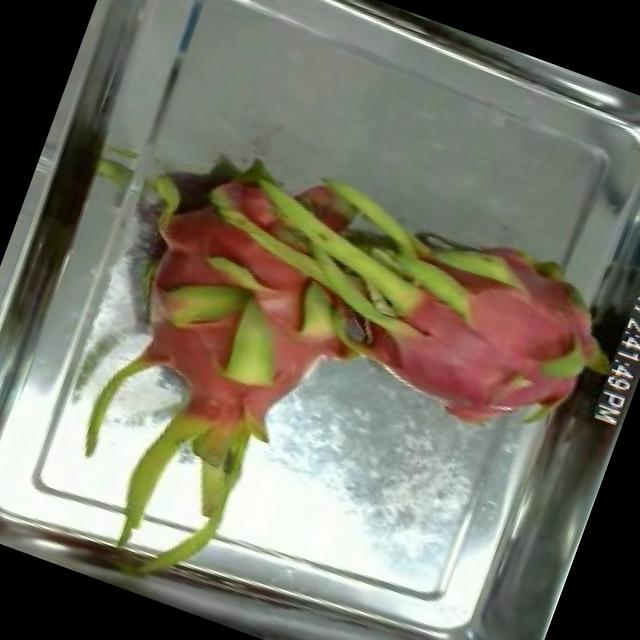Fruit: (272, 163, 377, 250)
